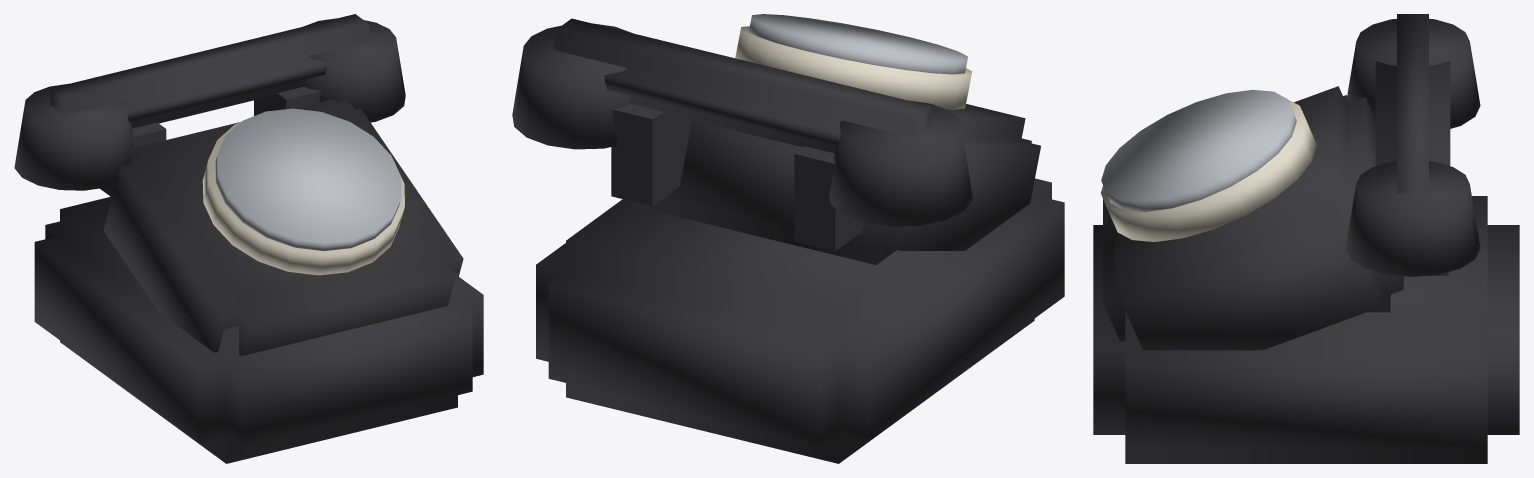
File: rotary_phone.glb
3 renders of one model, left to right at view 1: azimuth 30°, elevation 25°; view 2: azimuth 150°, elevation 25°; view 3: azimuth 270°, elevation 25°, orthographic. The views are drawn at different scales.
Visible parts, largest first — view 1: PhoneBase, DialSlope, FingerPlate, HandsetBar, EarCup_-0.095, DialWheel, EarCup_0.095, Cradle_0.055, Cradle_-0.055; view 2: PhoneBase, DialSlope, HandsetBar, EarCup_-0.095, EarCup_0.095, FingerPlate, DialWheel, Cradle_0.055, Cradle_-0.055; view 3: PhoneBase, DialSlope, FingerPlate, EarCup_0.095, HandsetBar, DialWheel, EarCup_-0.095.
Boxes of the visible parts, box(x1,y1,x2,y2) form: PhoneBase: box(34, 196, 483, 463); DialSlope: box(103, 98, 463, 355); FingerPlate: box(215, 108, 401, 251); HandsetBar: box(50, 14, 369, 128); EarCup_-0.095: box(14, 83, 133, 190); DialWheel: box(202, 122, 404, 275); EarCup_0.095: box(303, 18, 405, 122); Cradle_0.055: box(254, 86, 320, 115); Cradle_-0.055: box(100, 122, 166, 197); PhoneBase: box(536, 178, 1064, 463); DialSlope: box(633, 104, 1040, 264); HandsetBar: box(554, 18, 930, 153); EarCup_-0.095: box(829, 100, 972, 226); EarCup_0.095: box(512, 23, 632, 149); FingerPlate: box(749, 14, 967, 74); DialWheel: box(735, 26, 972, 109); Cradle_0.055: box(611, 104, 691, 206); Cradle_-0.055: box(794, 146, 863, 250); PhoneBase: box(1093, 196, 1519, 463); DialSlope: box(1103, 86, 1403, 350); FingerPlate: box(1101, 89, 1296, 211); EarCup_0.095: box(1345, 161, 1480, 276); HandsetBar: box(1375, 14, 1450, 193); DialWheel: box(1101, 99, 1316, 241); EarCup_-0.095: box(1347, 18, 1480, 128).
Bounding box in the file's own units: 0.266 × 0.191 × 0.24.
